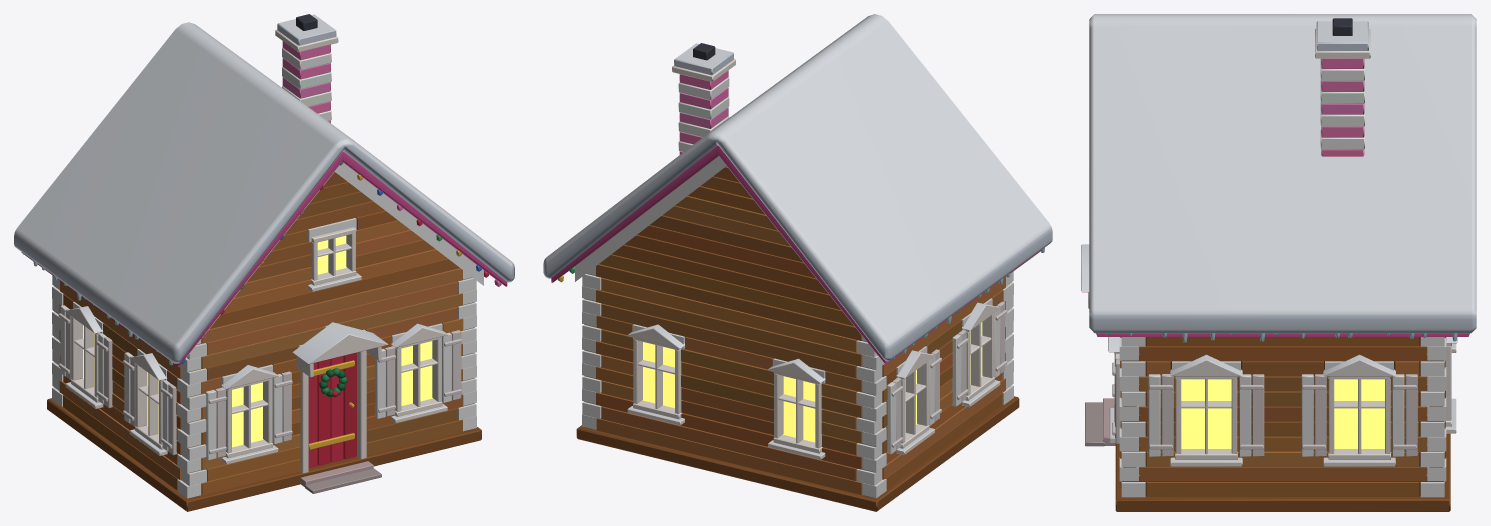
The model's file is CandyHouse_Gingerbread.glb.
3 renders of one model, left to right at view 1: azimuth 30°, elevation 25°; view 2: azimuth 150°, elevation 25°; view 3: azimuth 270°, elevation 25°, orthographic. The views are drawn at different scales.
Parts seen in each view (by area): view 1: CandyHouse_Gingerbread_Roof, CandyHouse_Gingerbread_Walls, CandyHouse_Gingerbread_Trim, CandyHouse_Gingerbread_Door, CandyHouse_Gingerbread_Foundation, CandyHouse_Gingerbread_Chimney, CandyHouse_Gingerbread_Glow; view 2: CandyHouse_Gingerbread_Roof, CandyHouse_Gingerbread_Walls, CandyHouse_Gingerbread_Trim, CandyHouse_Gingerbread_Foundation, CandyHouse_Gingerbread_Chimney, CandyHouse_Gingerbread_Glow; view 3: CandyHouse_Gingerbread_Roof, CandyHouse_Gingerbread_Walls, CandyHouse_Gingerbread_Trim, CandyHouse_Gingerbread_Chimney, CandyHouse_Gingerbread_Glow, CandyHouse_Gingerbread_Foundation, CandyHouse_Gingerbread_Door.
Boxes of the visible parts, x1,y1,x2,y2 form: CandyHouse_Gingerbread_Roof: [14, 22, 514, 366]; CandyHouse_Gingerbread_Walls: [52, 163, 483, 498]; CandyHouse_Gingerbread_Trim: [58, 227, 461, 464]; CandyHouse_Gingerbread_Door: [292, 322, 388, 493]; CandyHouse_Gingerbread_Foundation: [47, 398, 481, 511]; CandyHouse_Gingerbread_Chimney: [275, 14, 338, 123]; CandyHouse_Gingerbread_Glow: [83, 235, 432, 447]; CandyHouse_Gingerbread_Roof: [543, 14, 1052, 364]; CandyHouse_Gingerbread_Walls: [575, 156, 1013, 498]; CandyHouse_Gingerbread_Trim: [627, 301, 1007, 459]; CandyHouse_Gingerbread_Foundation: [576, 396, 1019, 511]; CandyHouse_Gingerbread_Chimney: [672, 43, 735, 154]; CandyHouse_Gingerbread_Glow: [642, 322, 982, 442]; CandyHouse_Gingerbread_Roof: [1089, 14, 1476, 342]; CandyHouse_Gingerbread_Walls: [1119, 337, 1446, 497]; CandyHouse_Gingerbread_Trim: [1108, 337, 1457, 466]; CandyHouse_Gingerbread_Chimney: [1315, 18, 1370, 156]; CandyHouse_Gingerbread_Glow: [1181, 379, 1384, 448]; CandyHouse_Gingerbread_Foundation: [1115, 346, 1450, 511]; CandyHouse_Gingerbread_Door: [1081, 244, 1115, 446].
Bounding box in the file's own units: 26.2 × 27.17 × 21.95.
